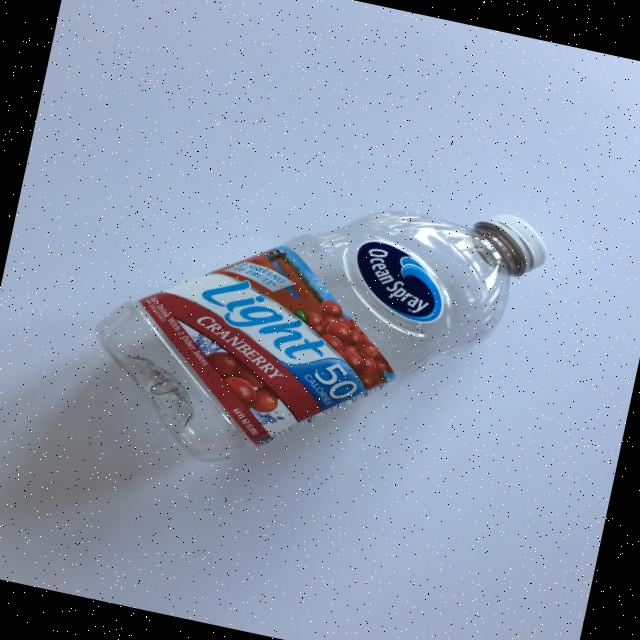plastic: (71, 132, 554, 522)
